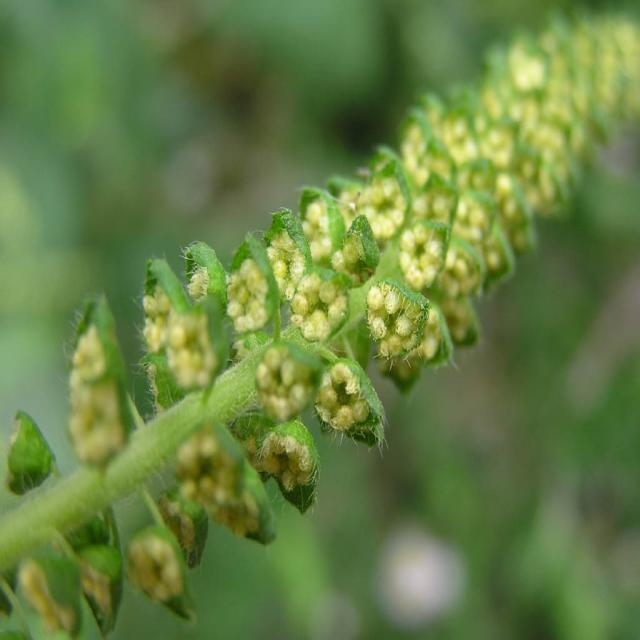ambrosia: (42, 263, 381, 569)
